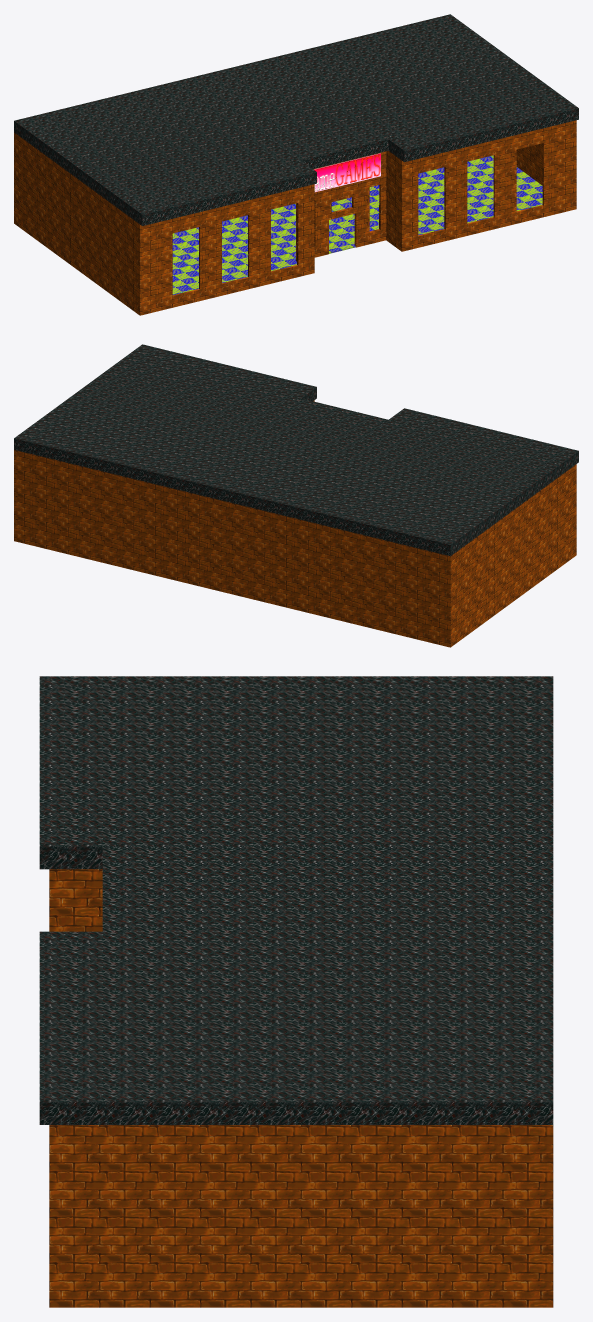
File: GAMES_COMPLEX.glb
3 renders of one model, top to bottom at view 1: azimuth 30°, elevation 25°; view 2: azimuth 150°, elevation 25°; view 3: azimuth 270°, elevation 25°, orthographic. The views are drawn at different scales.
Parts seen in each view (by area): view 1: CEELING-COL, WALLS-COL, FLOOR-COL, PLACA-COL; view 2: CEELING-COL, WALLS-COL; view 3: CEELING-COL, WALLS-COL.
Boxes of the visible parts, box(x1,y1,x2,y2) form: CEELING-COL: box(14, 14, 578, 225); WALLS-COL: box(14, 120, 576, 315); FLOOR-COL: box(172, 155, 542, 294); PLACA-COL: box(314, 153, 380, 192); CEELING-COL: box(14, 344, 578, 556); WALLS-COL: box(14, 400, 576, 647); CEELING-COL: box(39, 676, 553, 1124); WALLS-COL: box(49, 869, 553, 1307).
Bounding box in the file's own units: 80 × 18 × 40.78.
Materials: 4 (4 with a texture image).
